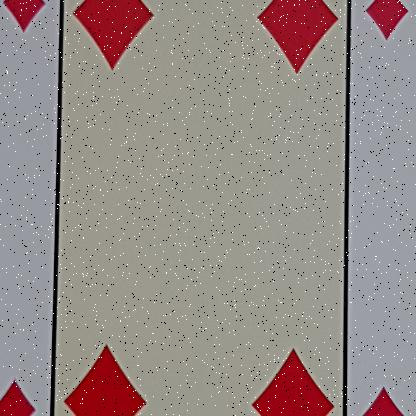4d: (0, 0, 69, 69), (354, 0, 415, 78), (0, 351, 58, 415), (346, 362, 415, 415)
